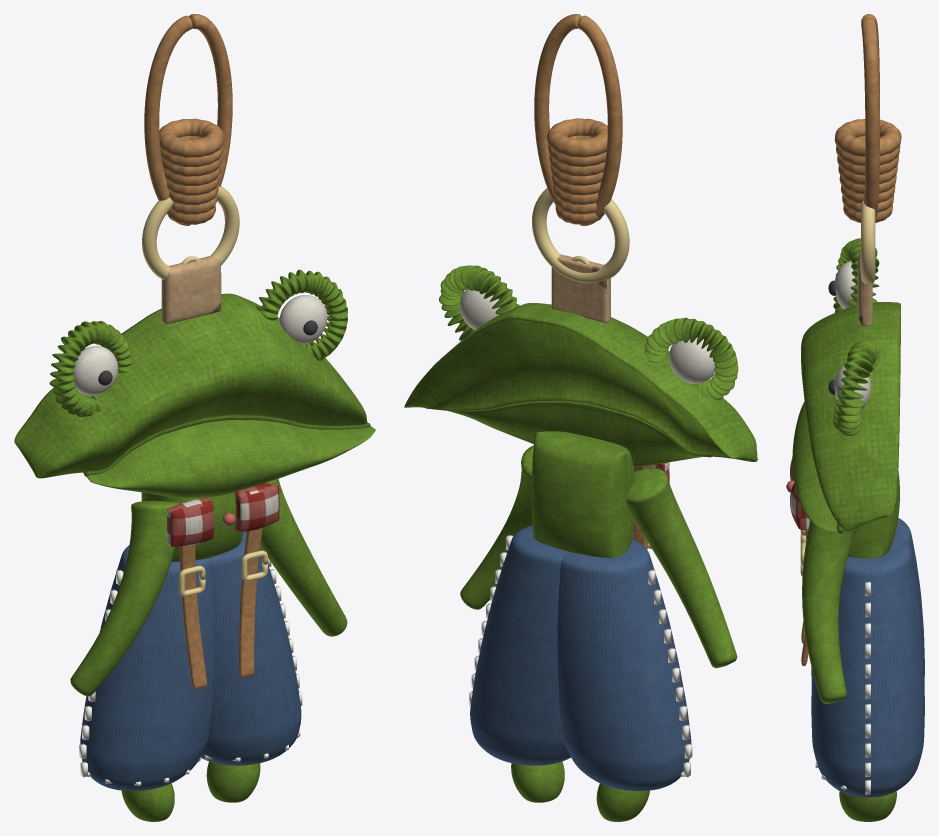
Rendered from frog-v1.glb.
3 renders of one model, left to right at view 1: azimuth 30°, elevation 25°; view 2: azimuth 150°, elevation 25°; view 3: azimuth 270°, elevation 25°, orthographic.
Parts seen in each view (by area): view 1: Pants, Head, MouthJaw, Rope, Arm.L, Arm.R, Suspenders, BowTie, Eyelid.L, LeatherTag, Eyelid.R, MetalRing (+8 smaller); view 2: Pants, Head, Body, Rope, Arm.L, MouthJaw, Eyelid.L, Arm.R, MetalRing, LeatherTag, Eyelid.R, Stitching (+4 smaller); view 3: Pants, Head, Rope, Arm.R, MouthJaw, Eyelid.R, Body, Foot.R, MetalRing, Stitching, Eyelid.L, Eye.L (+3 smaller).
Boxes of the visible parts, <box> form: Pants: <box>80,531,301,791</box>; Head: <box>14,293,367,478</box>; MouthJaw: <box>83,420,375,497</box>; Rope: <box>144,14,232,225</box>; Arm.L: <box>70,500,180,696</box>; Arm.R: <box>260,479,347,636</box>; Suspenders: <box>179,528,262,689</box>; BowTie: <box>167,483,279,546</box>; Eyelid.L: <box>49,321,132,417</box>; LeatherTag: <box>161,255,221,324</box>; Eyelid.R: <box>256,269,347,360</box>; MetalRing: <box>142,186,239,279</box>; Pants: <box>470,525,691,791</box>; Head: <box>404,303,757,461</box>; Body: <box>531,431,634,557</box>; Rope: <box>534,14,622,225</box>; Arm.L: <box>626,468,737,668</box>; MouthJaw: <box>444,400,703,467</box>; Eyelid.L: <box>644,317,738,399</box>; Arm.R: <box>460,445,533,609</box>; MetalRing: <box>532,188,629,283</box>; LeatherTag: <box>551,254,610,323</box>; Eyelid.R: <box>439,265,519,340</box>; Stitching: <box>469,535,692,777</box>; Pants: <box>811,518,924,797</box>; Head: <box>801,302,900,531</box>; Rope: <box>834,14,901,222</box>; Arm.R: <box>802,520,857,703</box>; MouthJaw: <box>792,401,844,531</box>; Eyelid.R: <box>833,340,879,435</box>; Body: <box>848,471,899,558</box>; Foot.R: <box>839,791,896,821</box>; MetalRing: <box>861,200,875,284</box>; Stitching: <box>815,582,870,794</box>; Eyelid.L: <box>833,238,879,312</box>; Eye.L: <box>828,261,855,308</box>.
Bounding box in the file's own units: 0.8287 × 1.89 × 0.305.
11 materials, 7 textured.
